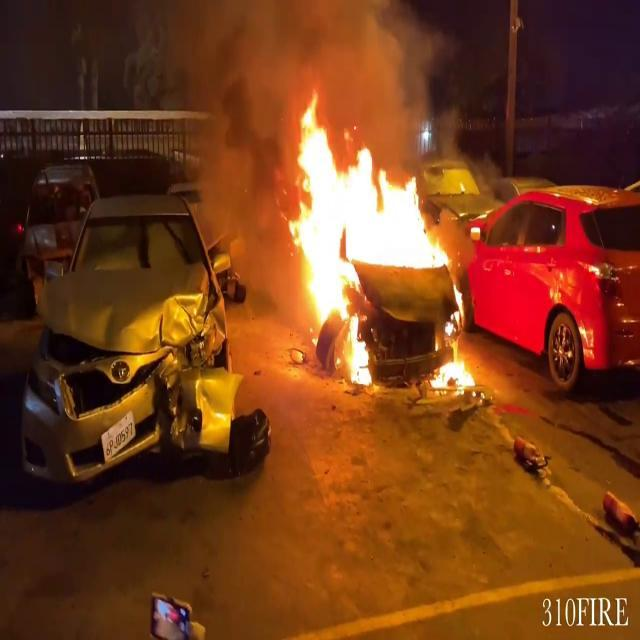Fire: (280, 89, 454, 382), (424, 284, 480, 394)
Smoke: (177, 0, 436, 201)
